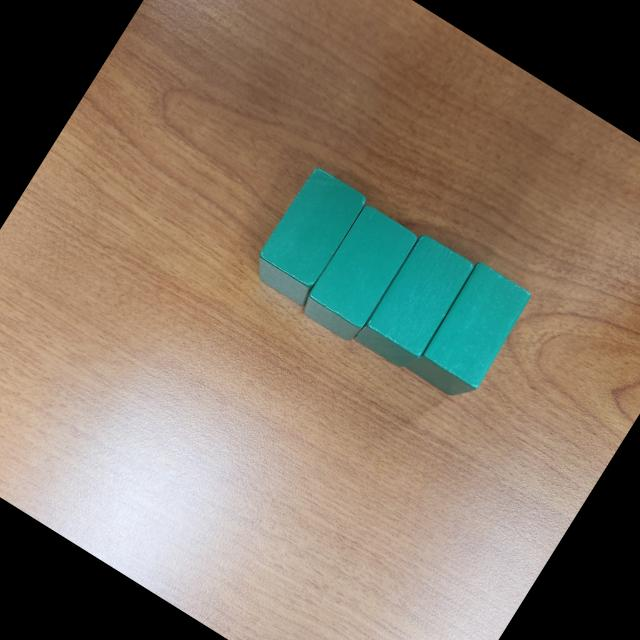green: (401, 257, 535, 409), (242, 163, 372, 312), (349, 227, 478, 377), (295, 200, 423, 349)
